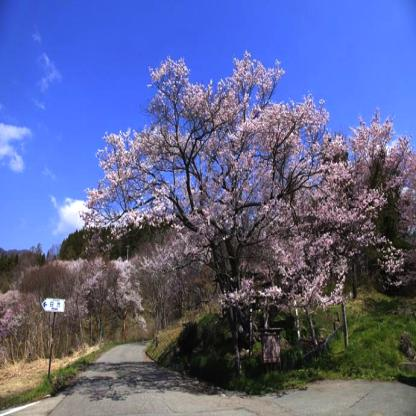Someiyoshino: (75, 47, 403, 300), (338, 111, 414, 288), (112, 259, 145, 333), (1, 288, 31, 339)
